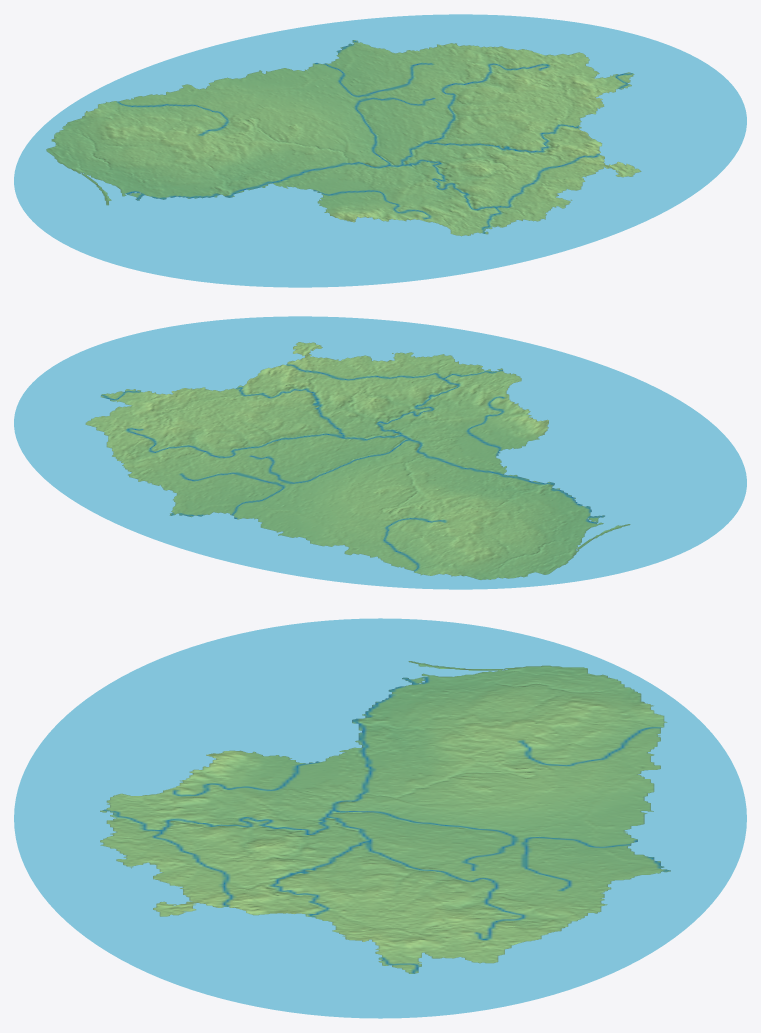
The model's file is LTU-terrain.glb.
3 views of the same model, one above another, from view 1: azimuth 30°, elevation 25°; view 2: azimuth 150°, elevation 25°; view 3: azimuth 270°, elevation 25° (orthographic). The views are drawn at different scales.
Parts seen in each view (by area): view 1: Relevo com hidrografia; view 2: Relevo com hidrografia; view 3: Relevo com hidrografia.
Boxes of the visible parts, box(x1,y1,x2,y2) form: Relevo com hidrografia: box(14, 14, 746, 287); Relevo com hidrografia: box(14, 316, 746, 589); Relevo com hidrografia: box(14, 618, 746, 1018).
Bounding box in the file's own units: 2.04 × 0.0152 × 1.58.
Materials: 2 (1 with a texture image).
